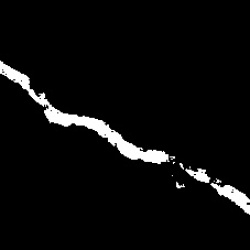crack: (2, 61, 247, 210)
